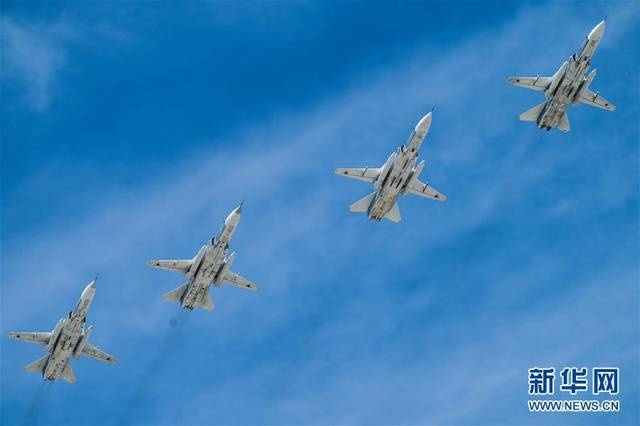airplane: (332, 108, 448, 223), (145, 199, 260, 312), (506, 18, 619, 133), (5, 272, 117, 386)
